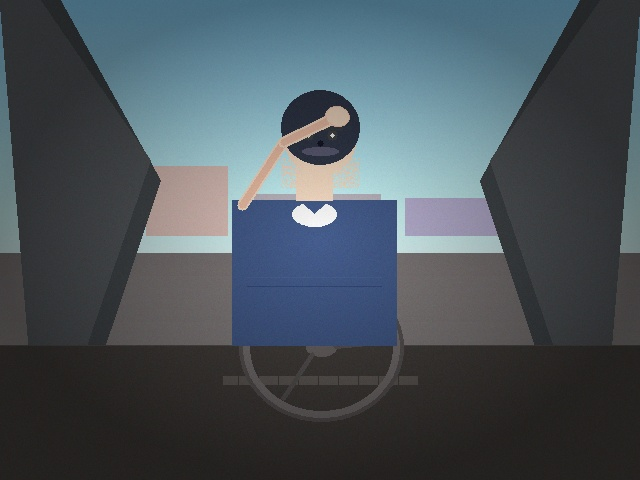hands_off_wheel: (317, 92, 358, 140)
